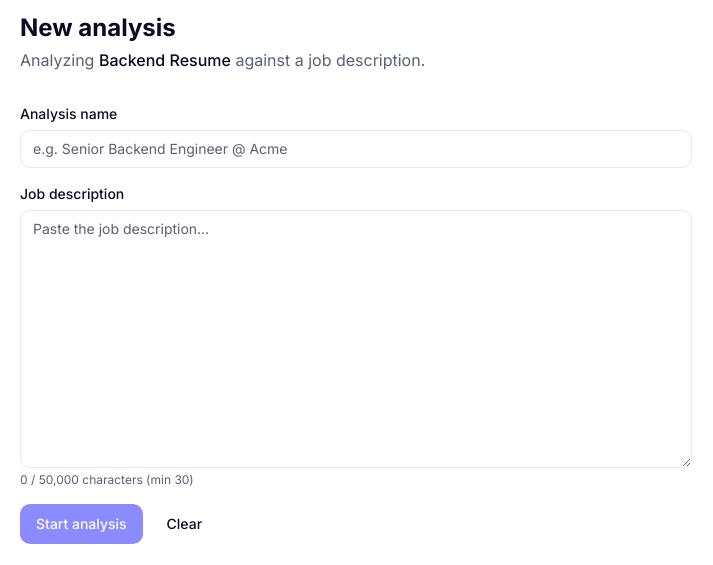
Test: AnalysisStartPage › clears both fields
Type "Draft" into the field labelled "Analysis name" at (356, 149), box [20, 130, 692, 168]
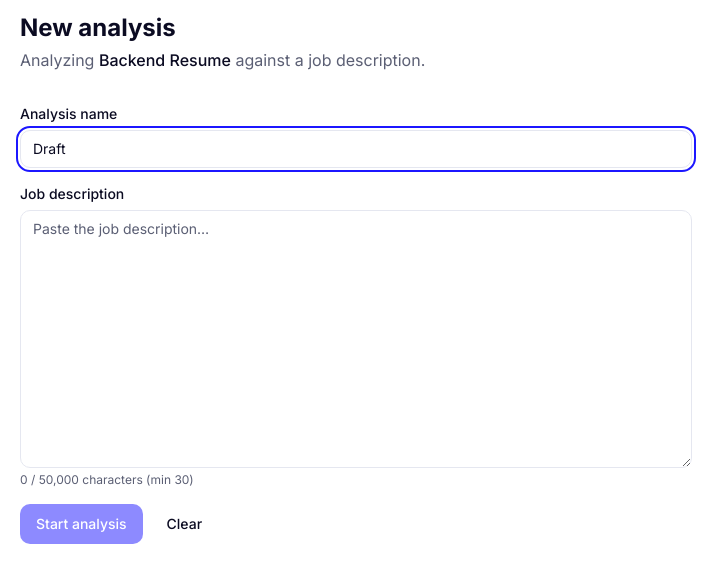
Type "some content" into the text box labelled "Job description" at (356, 339), box [20, 210, 692, 468]
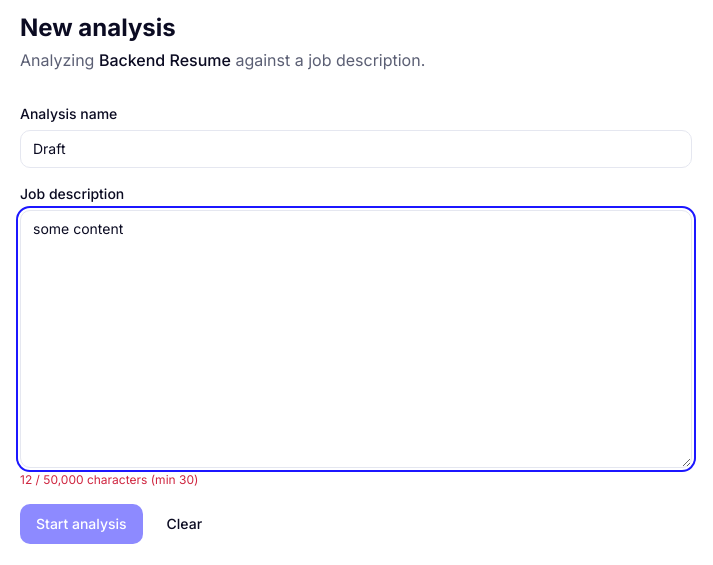
Click the button "Clear" at (184, 524), box [151, 504, 218, 544]
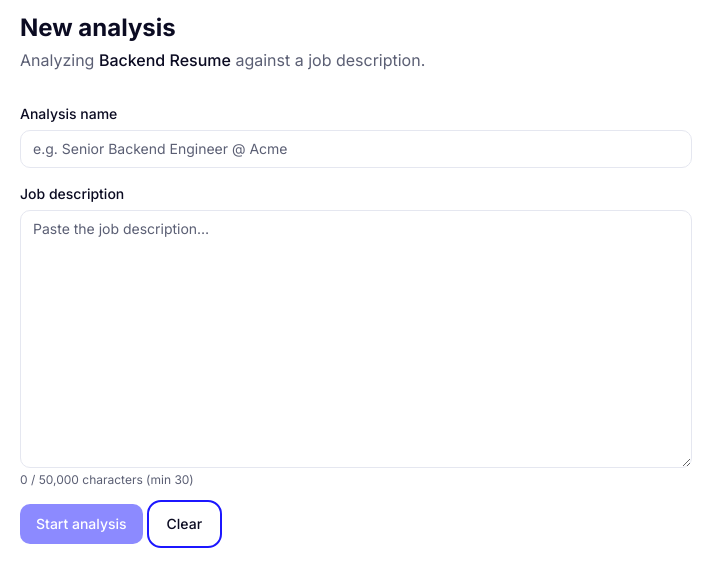
Expected: the field labelled "Analysis name" is empty, [20, 130, 692, 168]
Expected: the text box labelled "Job description" is empty, [20, 210, 692, 468]
